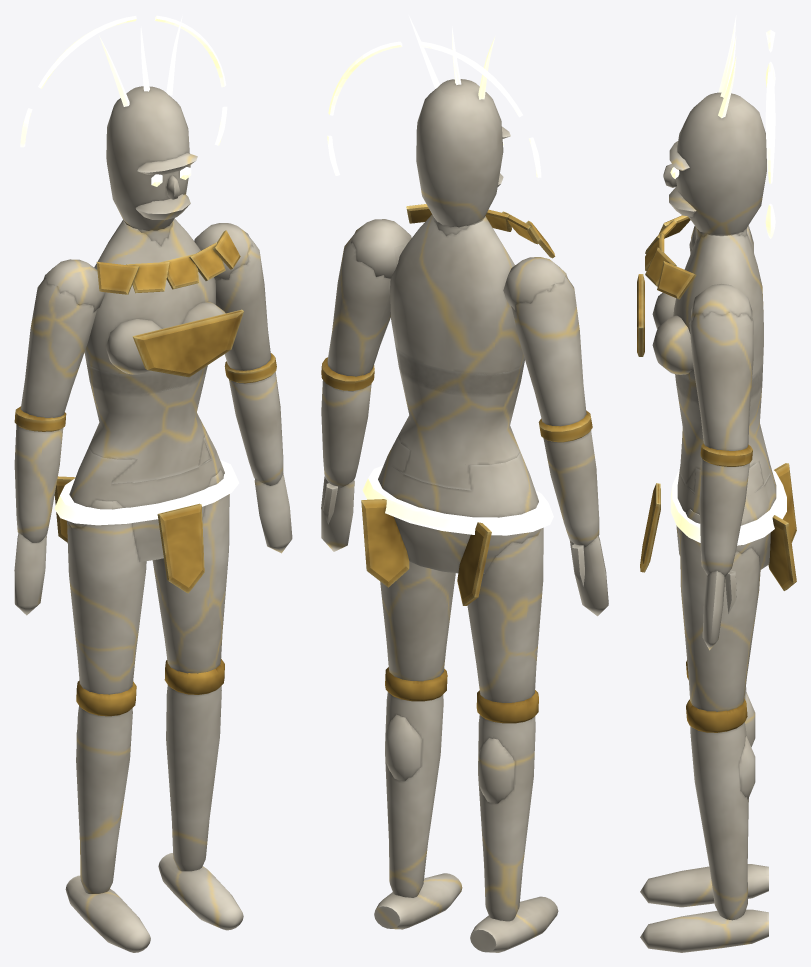
Rendered from underworld-surtling-radiance-feminine.glb.
3 views of the same model, side by side, from view 1: azimuth 30°, elevation 25°; view 2: azimuth 150°, elevation 25°; view 3: azimuth 270°, elevation 25° (orthographic). The views are drawn at different scales.
Parts seen in each view (by area): view 1: LeftUpperLeg.thigh, Spine.abdomen, Head.head, LeftLowerLeg.shin, RightLowerLeg.shin, Chest.chest, RightUpperLeg.thigh, LeftUpperArm.upper-arm, Hips.pelvis, Chest.sun-plate, LeftLowerArm.forearm, RightUpperArm.upper-arm (+23 smaller); view 2: Chest.chest, Spine.abdomen, Head.head, LeftUpperLeg.thigh, Hips.pelvis, LeftLowerLeg.shin, RightLowerLeg.shin, LeftUpperArm.upper-arm, RightUpperLeg.thigh, RightUpperArm.upper-arm, LeftLowerArm.forearm, RightLowerArm.forearm (+17 smaller); view 3: Head.head, RightUpperLeg.thigh, RightLowerLeg.shin, RightUpperArm.upper-arm, Chest.chest, RightLowerArm.forearm, RightFoot.foot, Spine.abdomen, LeftFoot.foot, Hips.pelvis, Hips.girdle, Chest.bust-r (+16 smaller).
Boxes of the visible parts, box(x1,y1,x2,y2) form: LeftUpperLeg.thigh: box(67, 500, 146, 694); Spine.abdomen: box(86, 360, 216, 483); Head.head: box(106, 86, 190, 230); LeftLowerLeg.shin: box(76, 706, 132, 893); RightLowerLeg.shin: box(166, 685, 221, 871); Chest.chest: box(84, 218, 215, 394); RightUpperLeg.thigh: box(152, 469, 229, 673); LeftUpperArm.upper-arm: box(20, 278, 97, 417); Hips.pelvis: box(68, 432, 224, 561); Chest.sun-plate: box(132, 309, 243, 377); LeftLowerArm.forearm: box(14, 424, 63, 542); RightUpperArm.upper-arm: box(215, 238, 270, 370); Chest.chest: box(390, 214, 524, 394); Spine.abdomen: box(393, 344, 524, 490); Head.head: box(416, 79, 503, 227); LeftUpperLeg.thigh: box(467, 527, 543, 702); Hips.pelvis: box(378, 436, 540, 573); LeftLowerLeg.shin: box(478, 715, 535, 921); RightLowerLeg.shin: box(385, 692, 443, 897); LeftUpperArm.upper-arm: box(511, 276, 586, 426); RightUpperLeg.thigh: box(380, 561, 455, 681); RightUpperArm.upper-arm: box(327, 234, 390, 376); LeftLowerArm.forearm: box(543, 430, 599, 547); RightLowerArm.forearm: box(321, 380, 371, 488); Head.head: box(676, 92, 766, 234); RightUpperLeg.thigh: box(679, 508, 760, 711); RightLowerLeg.shin: box(690, 722, 748, 920); RightUpperArm.upper-arm: box(689, 311, 753, 450); Chest.chest: box(673, 233, 763, 399); RightLowerArm.forearm: box(699, 459, 749, 576); RightFoot.foot: box(640, 909, 768, 952); Spine.abdomen: box(675, 363, 770, 493); LeftFoot.foot: box(640, 864, 768, 907); Hips.pelvis: box(676, 461, 776, 570); Hips.girdle: box(670, 469, 786, 545); Chest.bust-r: box(652, 315, 693, 374).
Bounding box in the file's own units: 0.6574 × 2.01 × 0.3267.
Materials: 3 (3 with a texture image).
